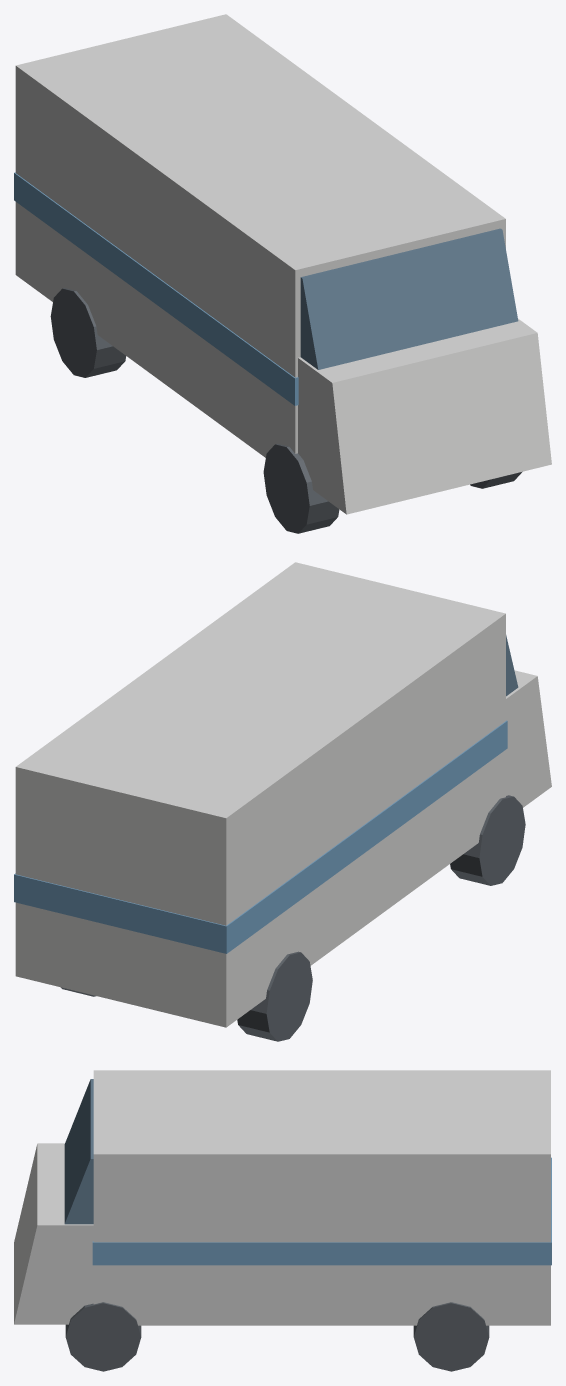
Rendered from synth_van.glb.
3 views of the same model, one above another, from view 1: azimuth 30°, elevation 25°; view 2: azimuth 150°, elevation 25°; view 3: azimuth 270°, elevation 25° (orthographic). The views are drawn at different scales.
Size of the model in its own units: 2.05 by 2.4 by 5.41.
